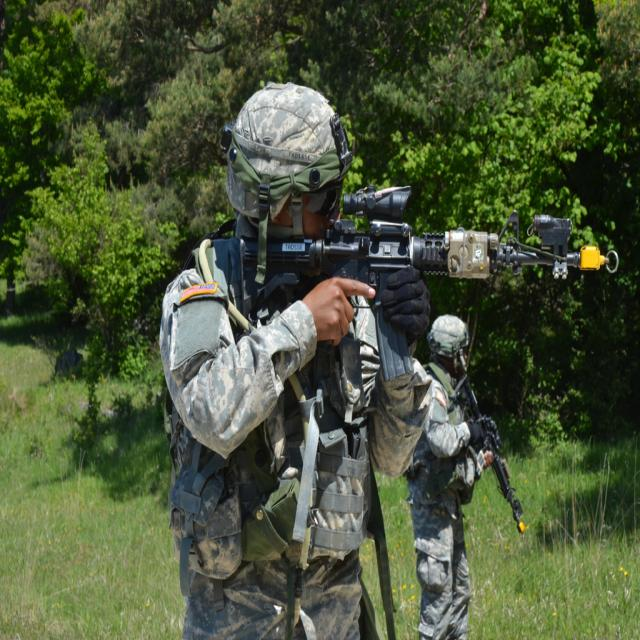Weapon: (223, 116, 602, 362), (433, 306, 545, 550)
